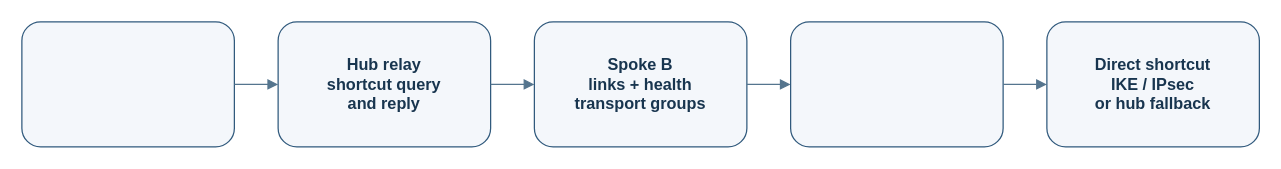
Image size: 1281x169. Some labels were removed from this diagram. Here are the shapes that lost their labels. From the top down, the centre of each, then its label:
At (x=127, y=84): "Spoke A traffic needs direct path".
At (x=896, y=84): "Path manager eligible underlay or placeholder".
